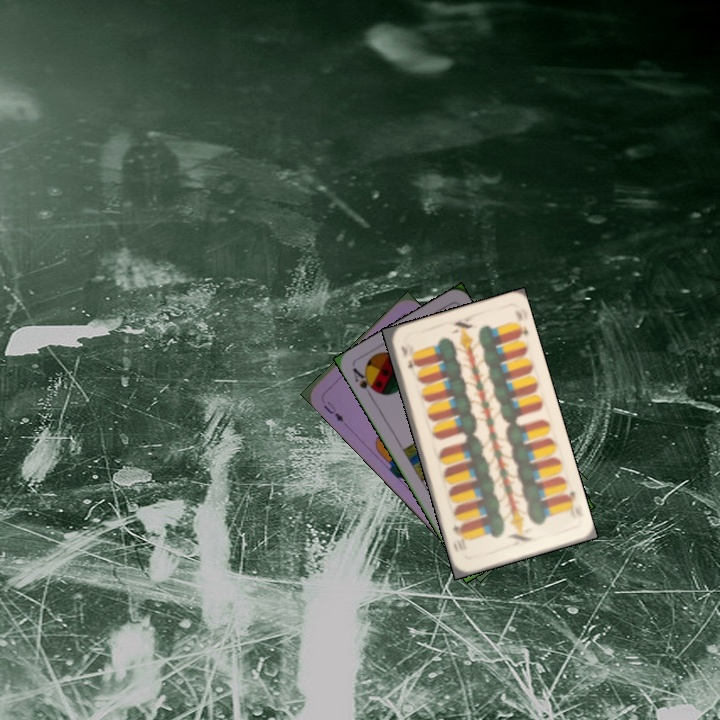E10: (560, 487, 581, 522), (397, 342, 416, 371)
EU: (319, 398, 347, 425)
SA: (349, 363, 380, 401)
